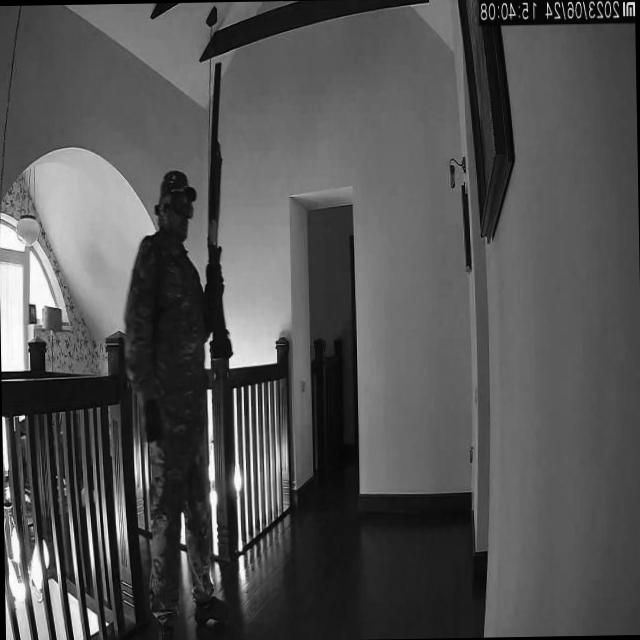gun: (200, 58, 229, 361)
person with a gun: (120, 58, 237, 640)
